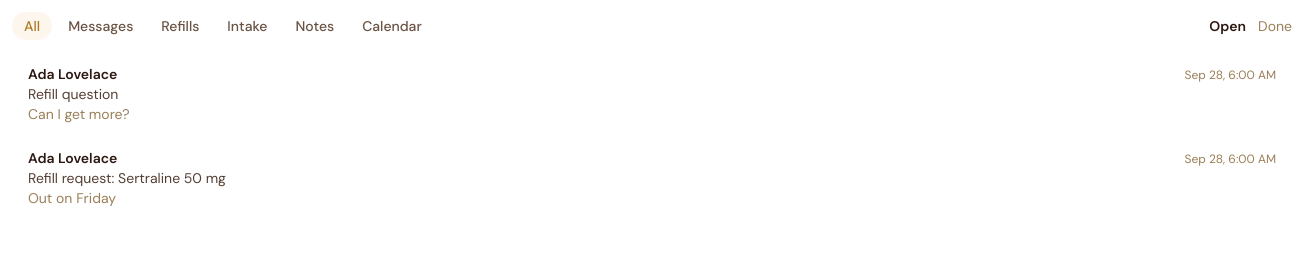
Test: Inbox › links a refill to where it is answered
This screenshot has width=1304, height=274.
Click the 2nd button with test id "inbox-row". click: [73, 158]
box: [12, 136, 1292, 220]
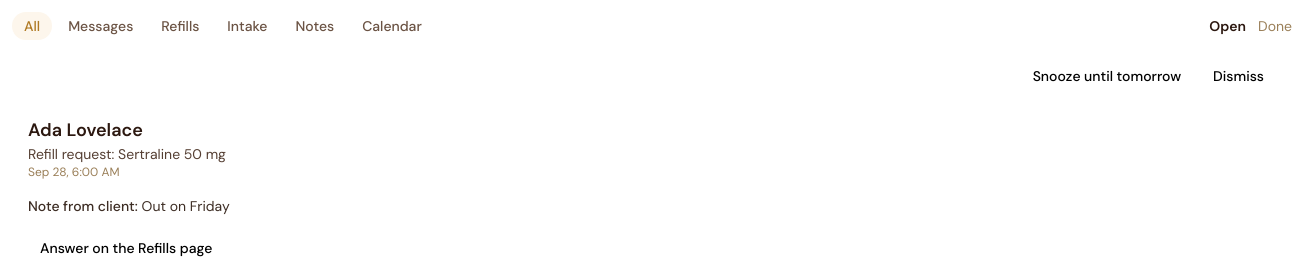
Expected: the element with test id "inbox-item-refill" shows "Note from client: Out on Friday", [28, 118, 230, 257]
